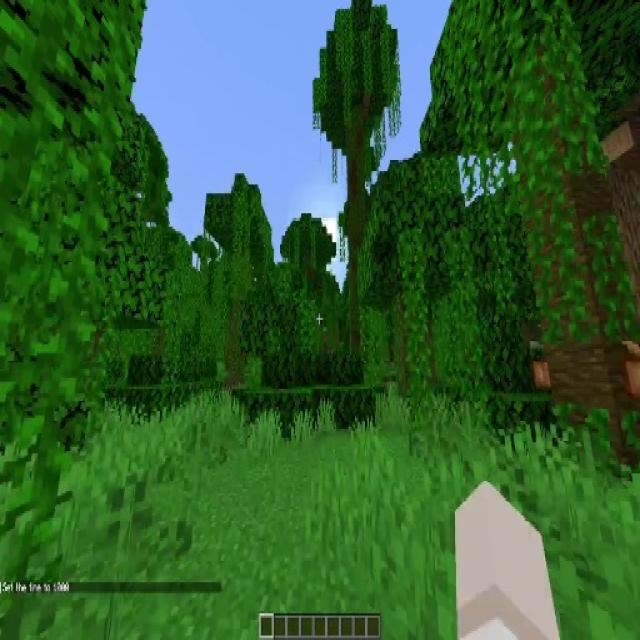jungle: (418, 9, 640, 476), (315, 0, 403, 336), (358, 159, 465, 422), (204, 175, 274, 381)
jungle_log: (508, 44, 635, 456), (392, 292, 438, 427)
